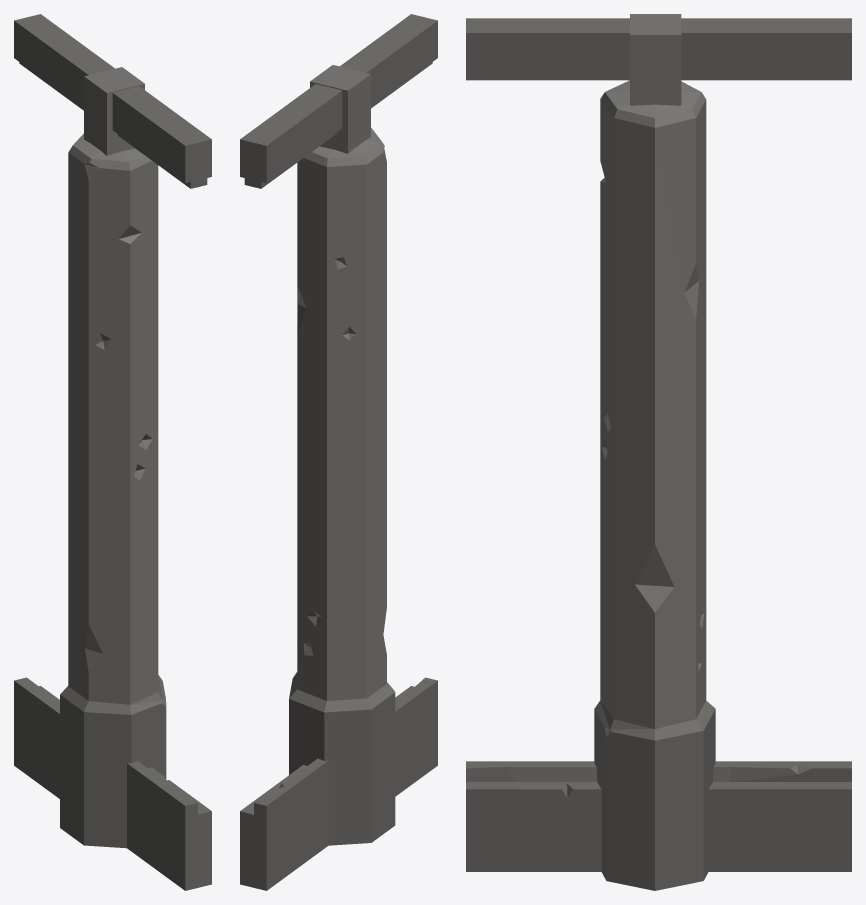
The model's file is SM_Bld_Tunnel_Straight_Wall_03.fbx.
3 views of the same model, side by side, from view 1: azimuth 30°, elevation 25°; view 2: azimuth 150°, elevation 25°; view 3: azimuth 270°, elevation 25° (orthographic). The views are drawn at different scales.
Parts seen in each view (by area): view 1: SM_Bld_Tunnel_Straight_Wall_03; view 2: SM_Bld_Tunnel_Straight_Wall_03; view 3: SM_Bld_Tunnel_Straight_Wall_03.
Boxes of the visible parts, left/top/right/bottom form: SM_Bld_Tunnel_Straight_Wall_03: left=14, top=14, right=211, bottom=890; SM_Bld_Tunnel_Straight_Wall_03: left=240, top=14, right=437, bottom=890; SM_Bld_Tunnel_Straight_Wall_03: left=466, top=14, right=851, bottom=890.
Size of the model in its own units: 76.56 by 601 by 250.
